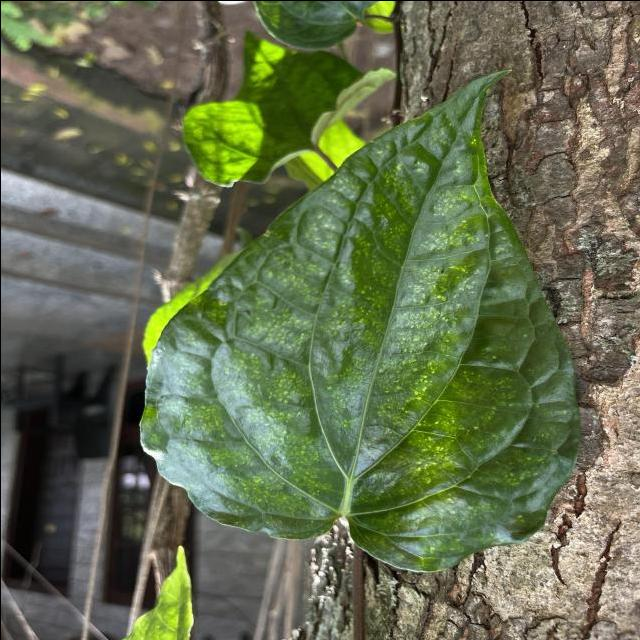Piper betle: (135, 66, 586, 575)
